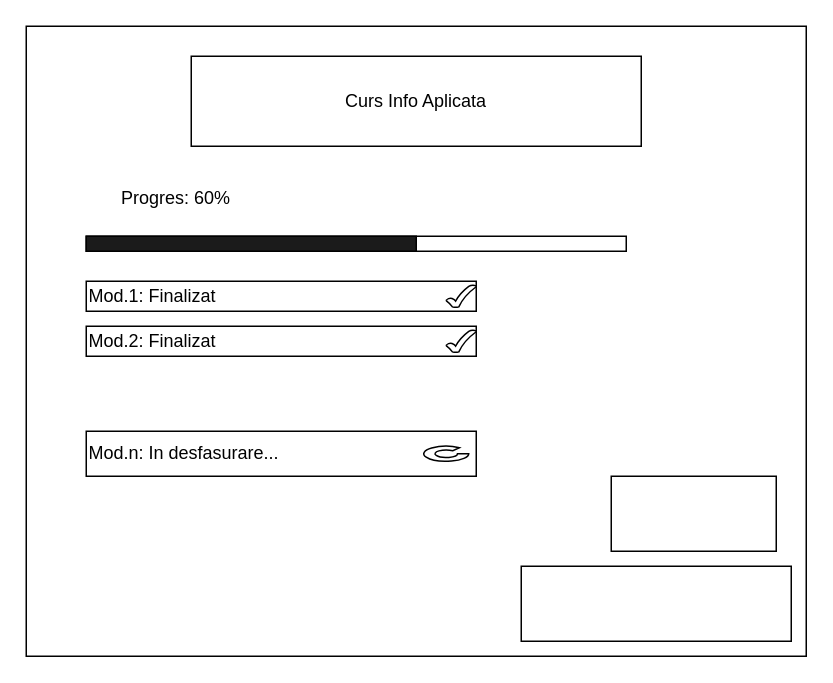
This 833x683 diagram has some shape labels left out. Here are the shapes that lost their labels. From the top down, the centre of each, then its label:
[693,513]: Continuare
[655,603]: Material nou disponibil
